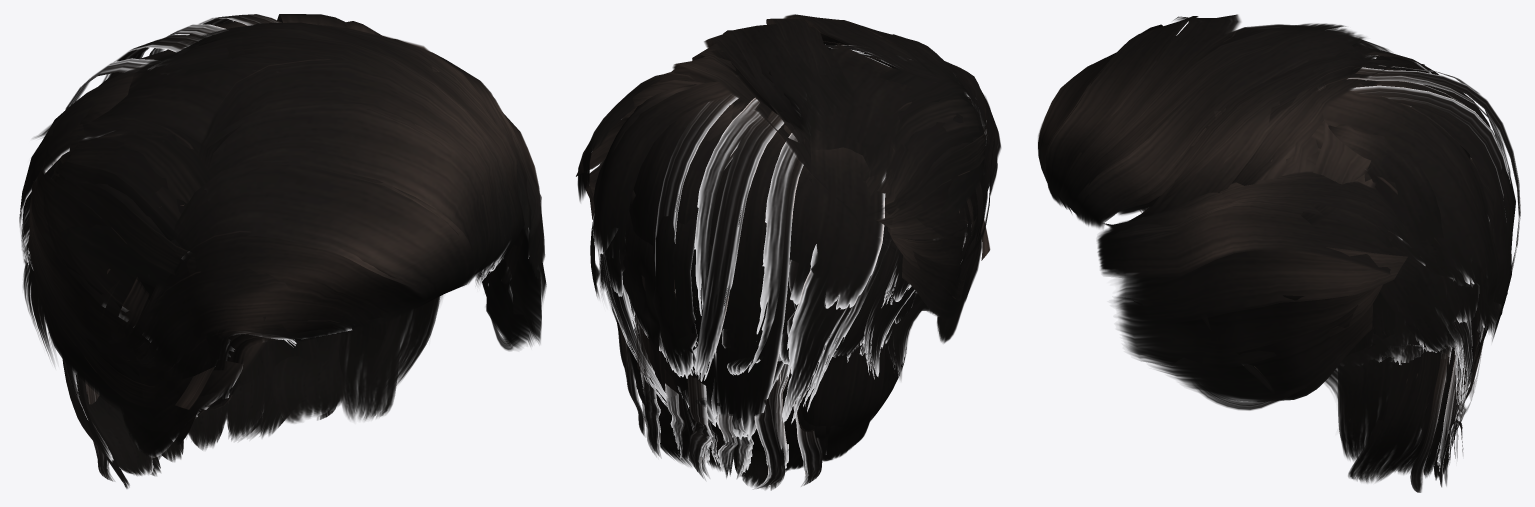
File: diamond_wavy_02_Straight.glb
3 renders of one model, left to right at view 1: azimuth 30°, elevation 25°; view 2: azimuth 150°, elevation 25°; view 3: azimuth 270°, elevation 25°, orthographic. The views are drawn at different scales.
Visible parts, largest first — view 1: SIDE PART.003; view 2: SIDE PART.003; view 3: SIDE PART.003.
Boxes of the visible parts, <box> form: SIDE PART.003: <box>19,14,546,488</box>; SIDE PART.003: <box>576,14,1001,490</box>; SIDE PART.003: <box>1038,14,1520,492</box>.
Size of the model in its own units: 0.2096 by 0.2214 by 0.2252.
1 material, 1 textured.
